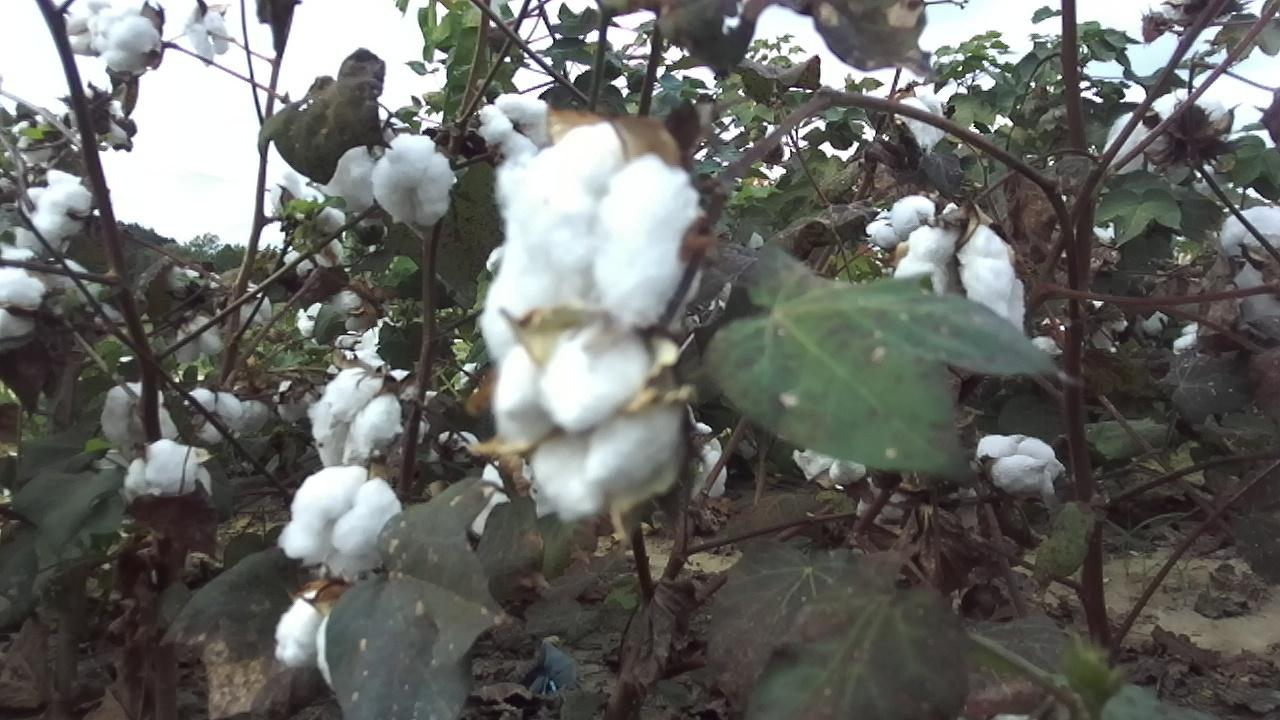cotton_ready: (501, 125, 702, 318), (495, 326, 685, 519), (896, 217, 1029, 337), (280, 465, 400, 574), (311, 366, 405, 474), (449, 455, 555, 537), (372, 134, 455, 226), (1152, 94, 1235, 185), (1224, 205, 1280, 326), (274, 174, 345, 267), (20, 167, 92, 254), (272, 589, 337, 683), (100, 384, 179, 451), (976, 435, 1065, 492), (128, 439, 212, 499), (865, 197, 956, 250), (475, 95, 552, 157), (296, 285, 377, 343), (790, 438, 872, 489), (0, 249, 45, 337), (356, 317, 412, 385), (325, 147, 377, 213), (484, 282, 527, 361), (104, 14, 157, 77), (1105, 114, 1155, 177), (188, 389, 242, 445), (689, 423, 727, 502), (896, 95, 950, 150)
